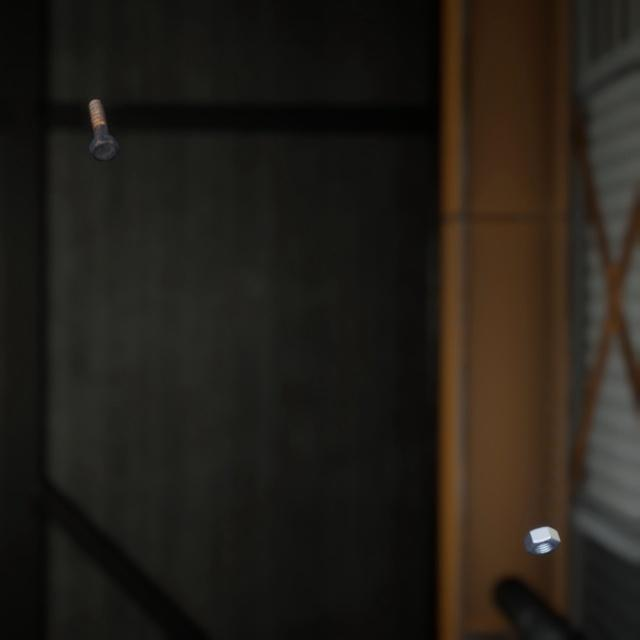bolt: (84, 82, 123, 152)
nut: (518, 499, 565, 538)
